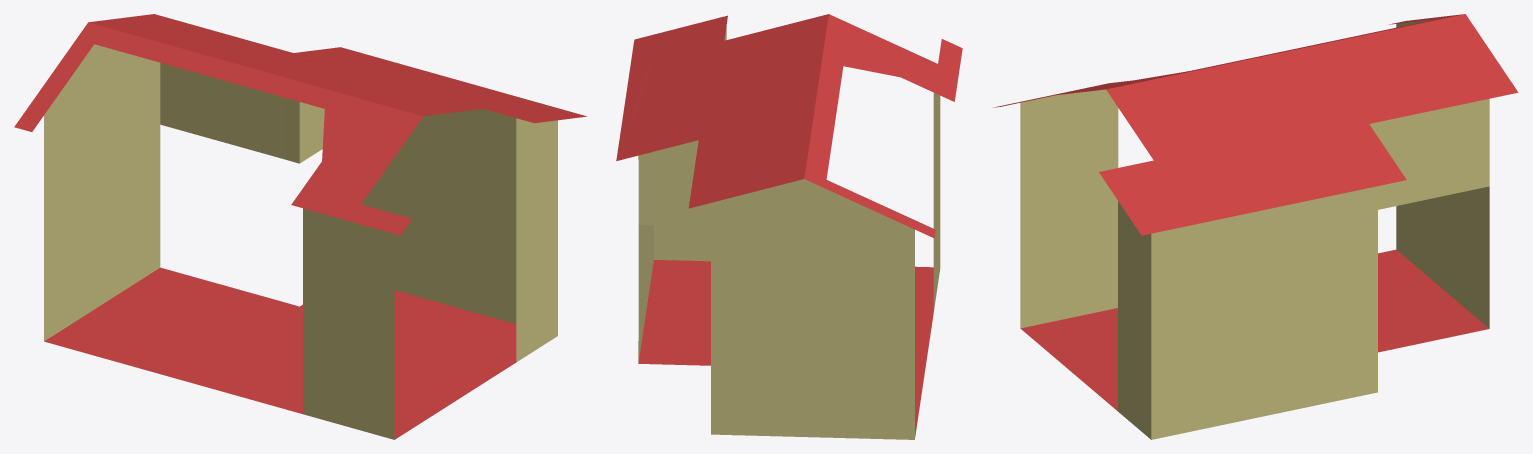
3 views of the same model, side by side, from view 1: azimuth 30°, elevation 25°; view 2: azimuth 150°, elevation 25°; view 3: azimuth 270°, elevation 25° (orthographic). The views are drawn at different scales.
Size of the model in its own units: 17.7 by 18.36 by 10.53.
